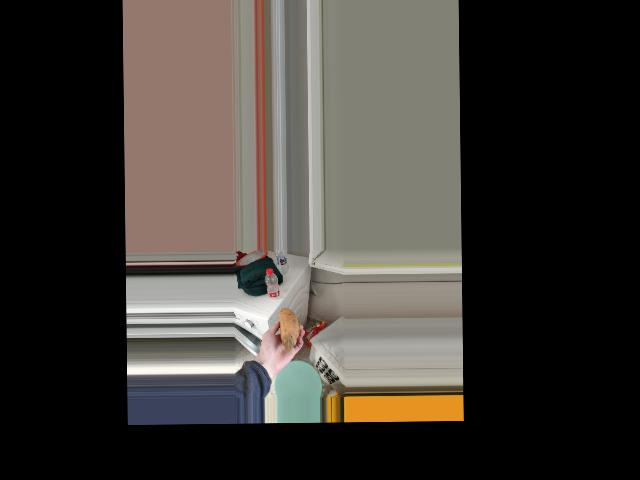sweet_potato: (279, 298, 297, 346)
